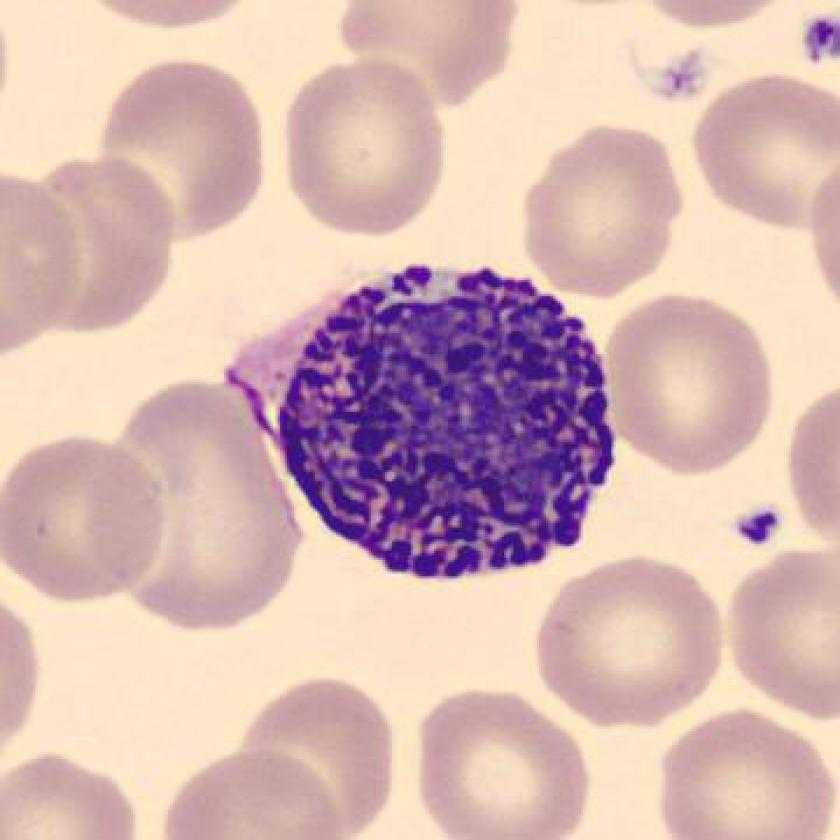basophil: (269, 267, 622, 580)
